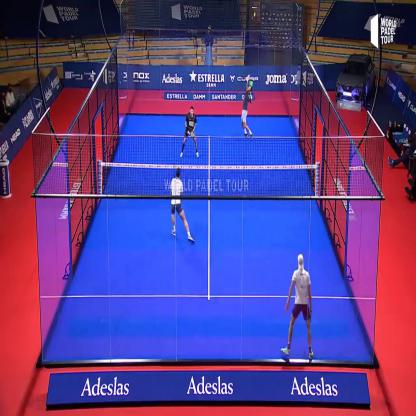ball: (252, 7, 258, 20)
